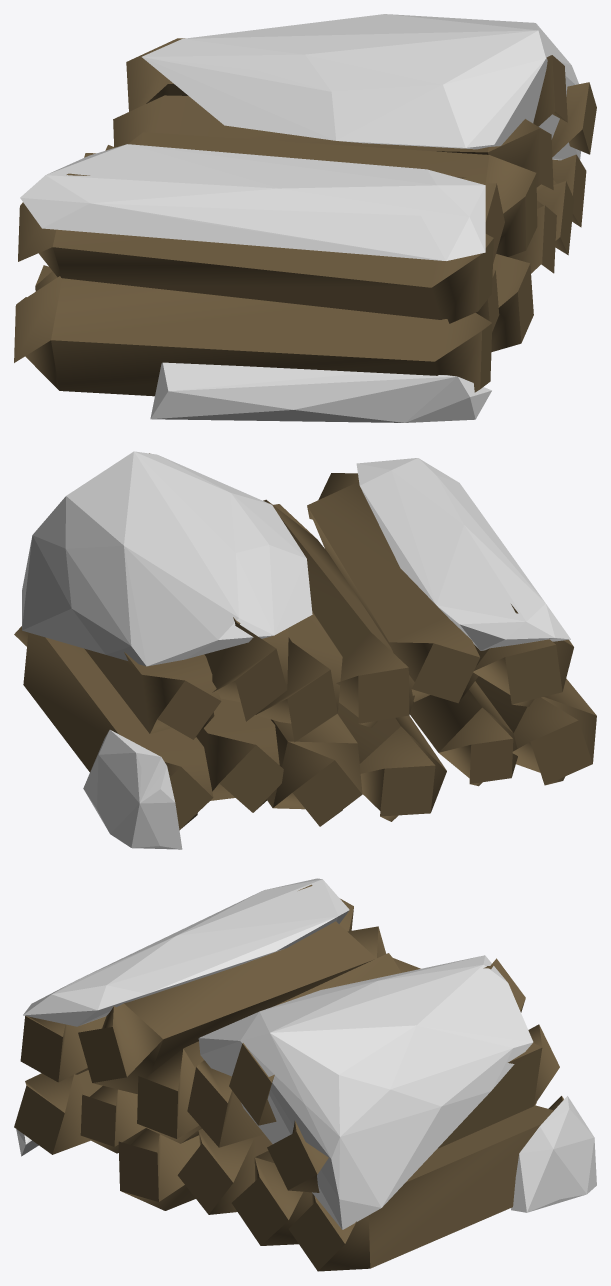
Rendered from woodLogs.fbx.
The picture shows the model from 3 angles, top to bottom: view 1: azimuth 30°, elevation 25°; view 2: azimuth 150°, elevation 25°; view 3: azimuth 270°, elevation 25°; orthographic projection. The views are drawn at different scales.
Parts seen in each view (by area): view 1: woodLogs; view 2: woodLogs; view 3: woodLogs.
Part boxes in pixels (x1,y1,x2,y2): woodLogs: (14, 14, 596, 422); woodLogs: (14, 451, 596, 849); woodLogs: (14, 878, 596, 1271).
Size of the model in its own units: 151 by 64.28 by 142.
